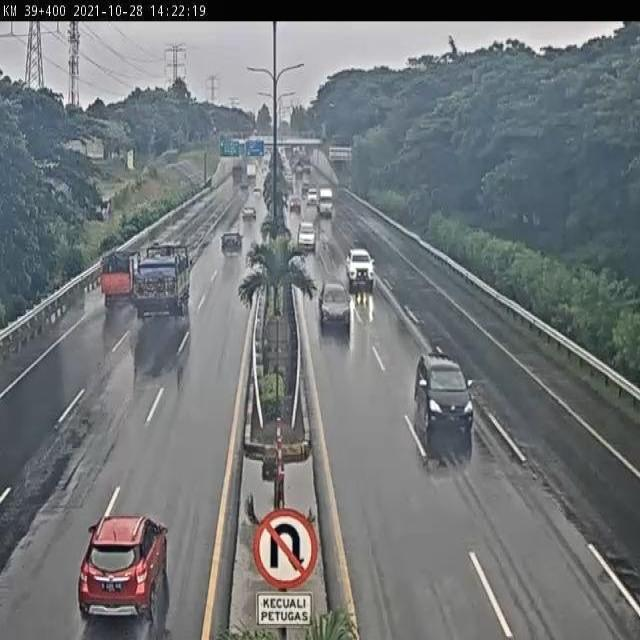Car: (78, 513, 169, 625), (416, 352, 476, 441), (318, 280, 352, 330), (346, 249, 374, 287), (296, 221, 317, 254), (222, 234, 244, 258), (241, 206, 257, 222), (306, 189, 318, 206), (289, 197, 300, 212)
Truck: (133, 239, 195, 318), (100, 247, 140, 310), (317, 186, 335, 220), (245, 162, 257, 182), (232, 165, 242, 183)
